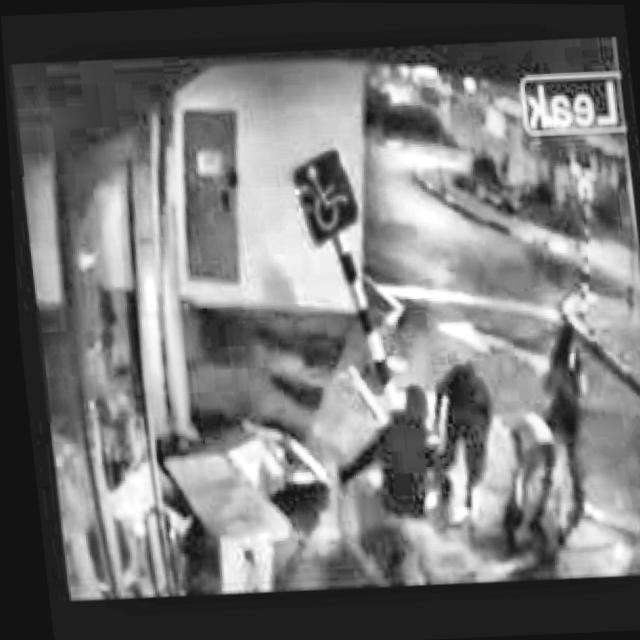Weapon: (353, 352, 640, 599)
